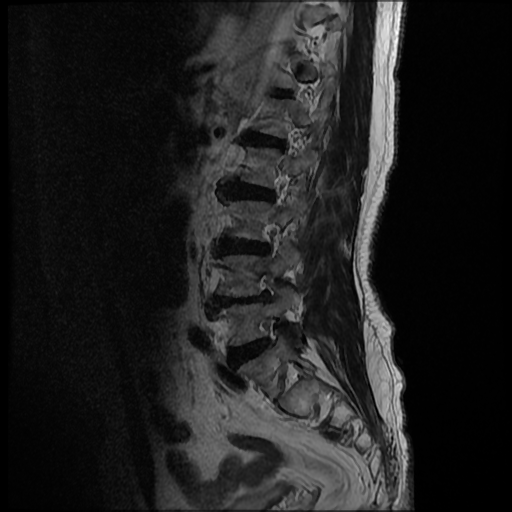LFS0: (251, 213, 289, 261)
LFS1: (249, 309, 287, 359)
LFS2: (247, 264, 285, 309)
